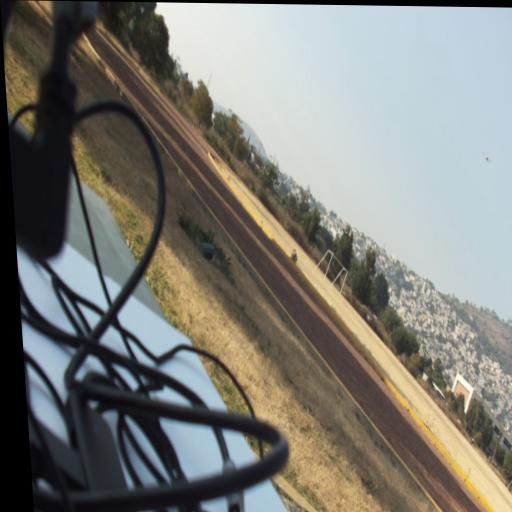drones: (481, 149, 495, 169)
